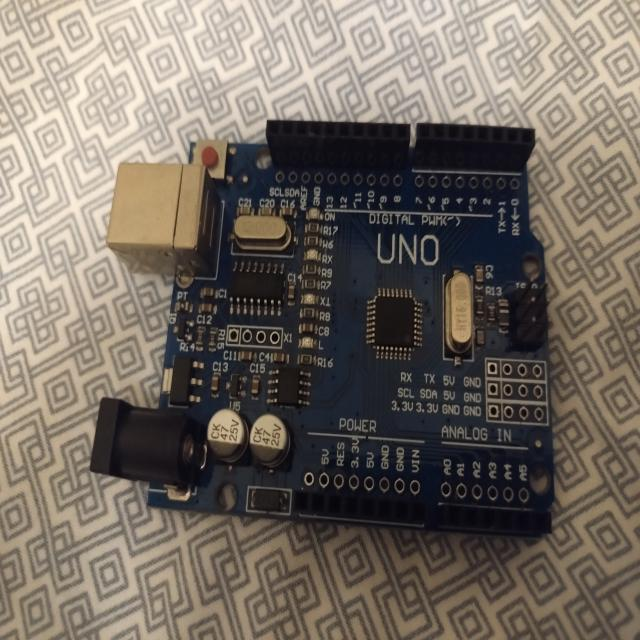arduino: (96, 109, 568, 548)
